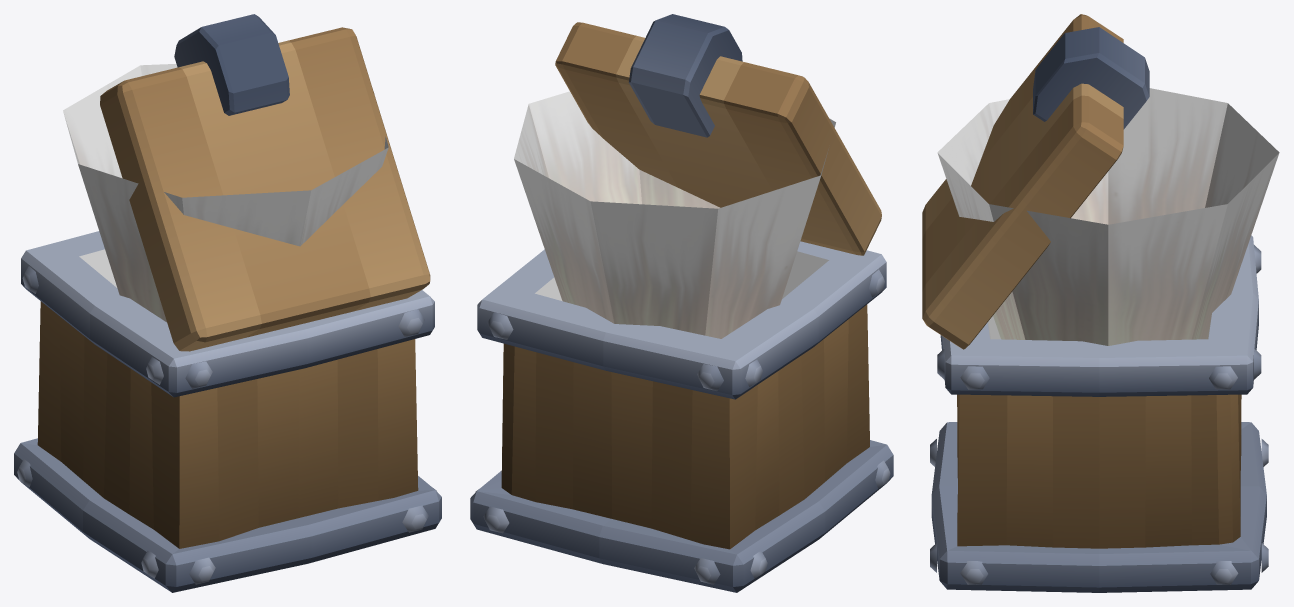
The model's file is chest.fbx.
3 views of the same model, side by side, from view 1: azimuth 30°, elevation 25°; view 2: azimuth 150°, elevation 25°; view 3: azimuth 270°, elevation 25° (orthographic).
Visible parts, largest first — view 1: chest_0, chest_1, glow; view 2: chest_0, glow, chest_1; view 3: chest_0, glow, chest_1.
Boxes of the visible parts, left/top/right/bottom form: chest_0: left=14, top=231, right=441, bottom=592; chest_1: left=100, top=14, right=430, bottom=351; glow: left=63, top=64, right=388, bottom=322; chest_0: left=470, top=241, right=893, bottom=592; glow: left=514, top=91, right=835, bottom=338; chest_1: left=555, top=14, right=881, bottom=255; chest_0: left=930, top=235, right=1268, bottom=592; glow: left=937, top=88, right=1279, bottom=345; chest_1: left=922, top=14, right=1149, bottom=349.
Size of the model in its own units: 246 by 385 by 257.
